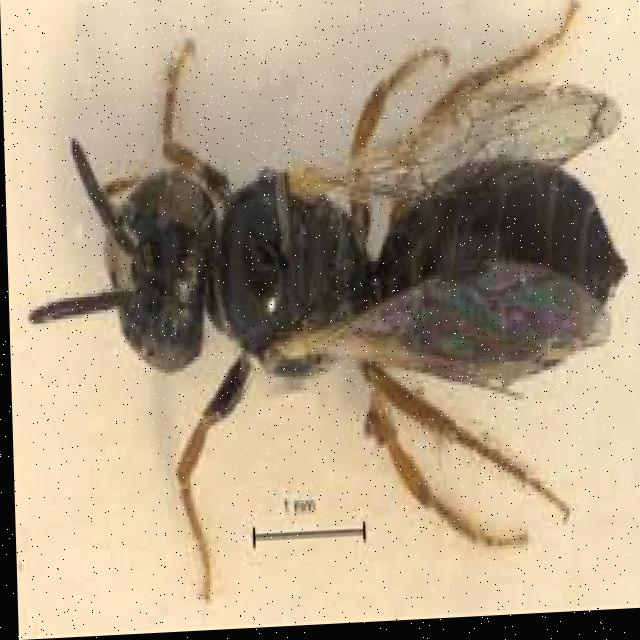Braunsapis: (26, 0, 639, 615)
